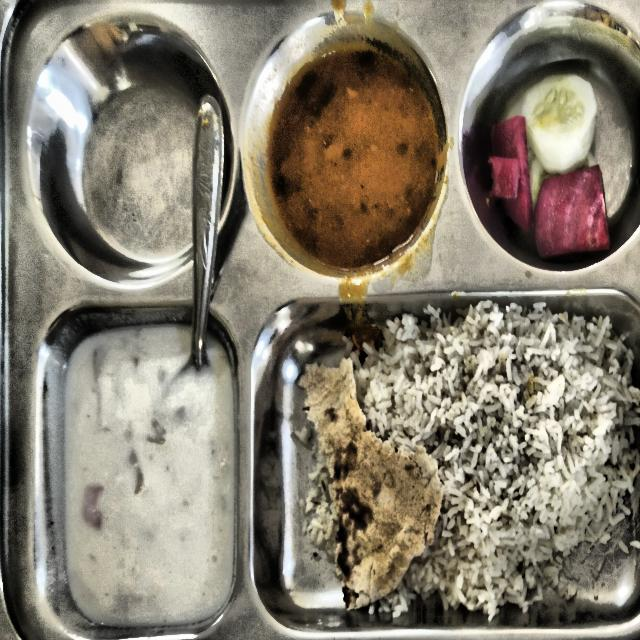Raita: (64, 324, 234, 625)
Rajma: (266, 40, 441, 273)
Rice: (357, 302, 640, 617)
Roti: (300, 358, 442, 608)
Salad-Mix: (488, 74, 610, 258)
